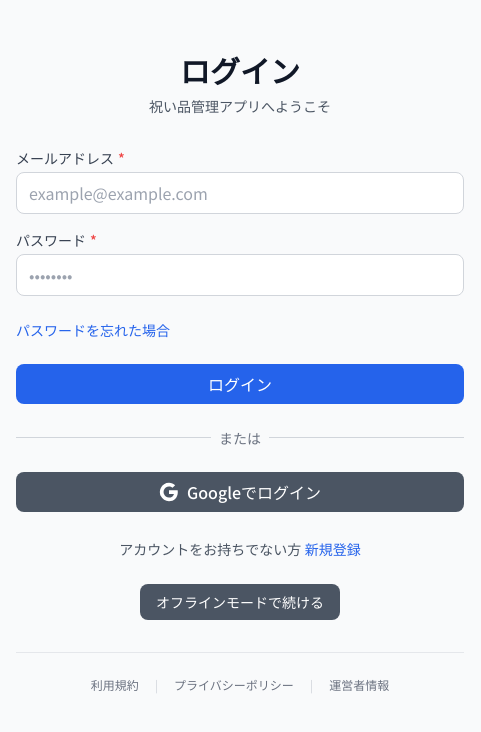
Test: Login Page › ログインエラー時にエラーメッセージを表示する
In the field with placeholder "example@example.com": (240, 192) 16,172 -> 464,214, type "test@example.com"
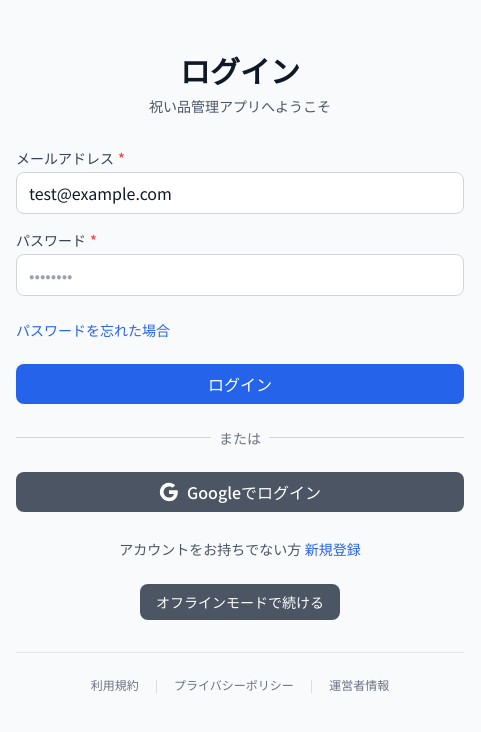
In the password field with placeholder "••••••••": (240, 274) 16,254 -> 464,296, type "password"
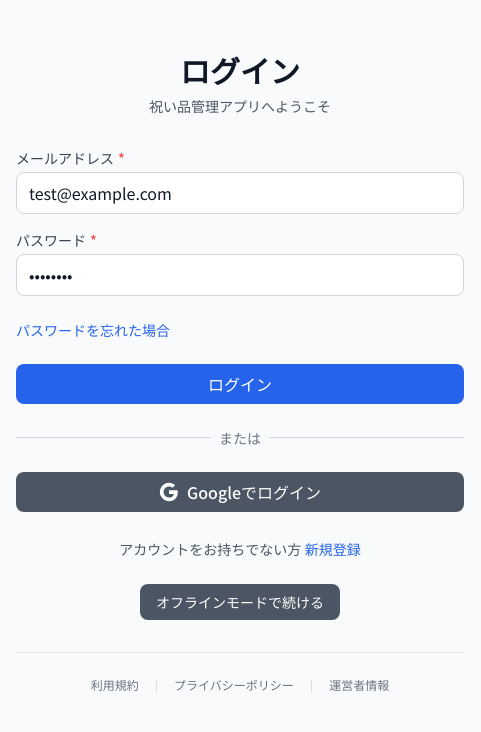
Click the button "ログイン": (240, 384) 16,364 -> 464,404
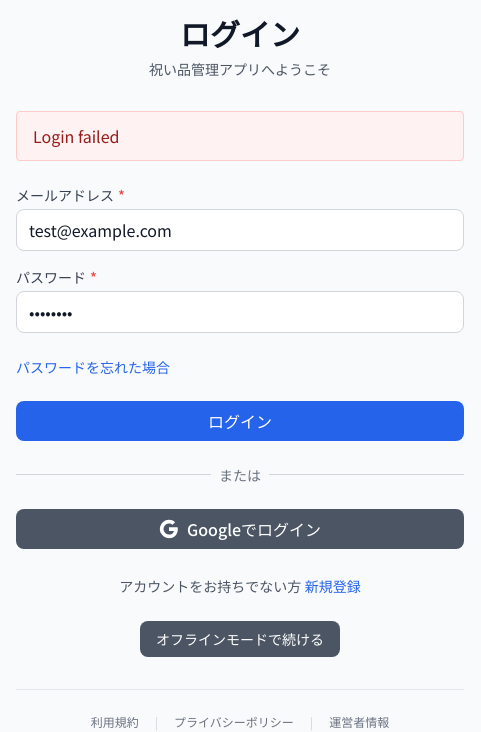
Result: the text "Login failed" is shown at 16,110 -> 464,160
